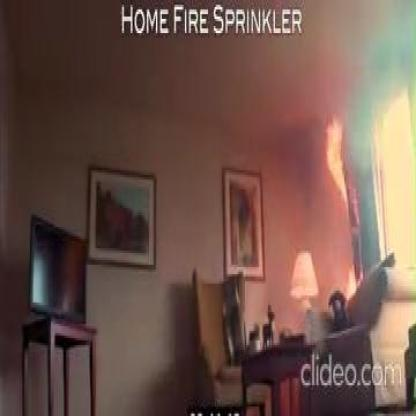fire: (322, 118, 349, 203), (335, 260, 363, 300)
